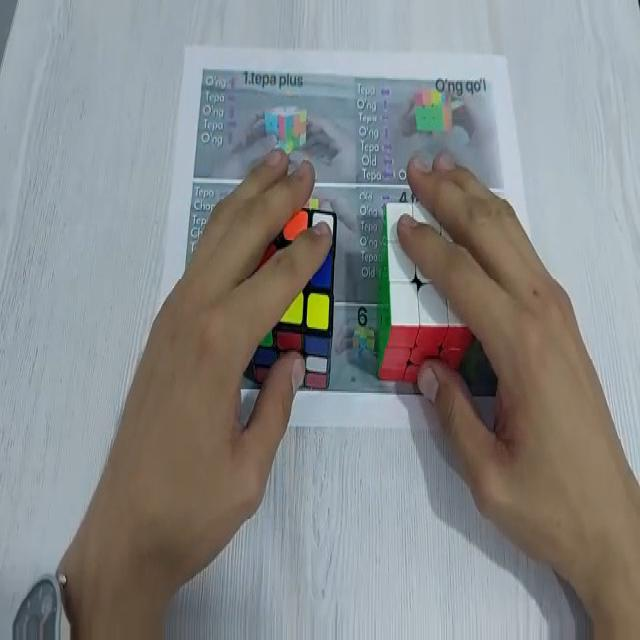Rub: (376, 200, 464, 380), (252, 202, 336, 386)
